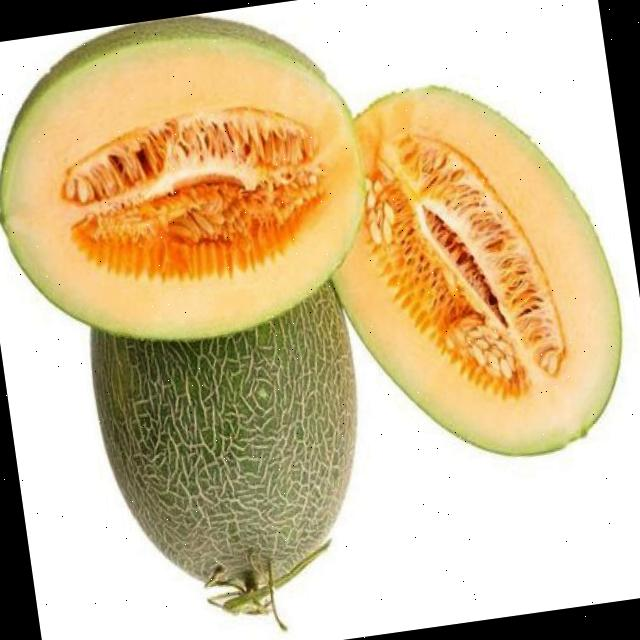Hami Melon: (0, 0, 382, 366), (305, 62, 635, 483), (81, 264, 384, 608)
